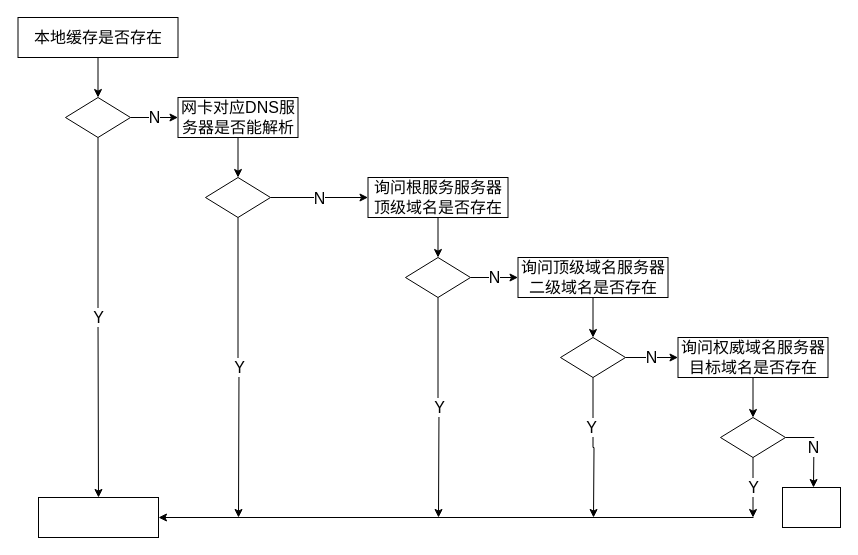
Some shapes in this 858 by 555 pixel diagram are drawn without their labels. Each missing label, with the centre of its shape:
失败: point (811, 507)
目标IP: point (98, 517)
